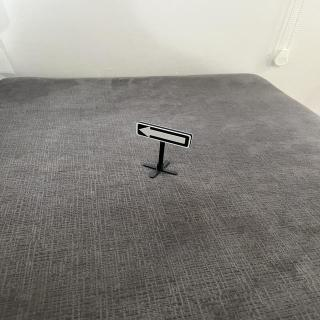sign_oneway_left: (136, 121, 195, 153)
